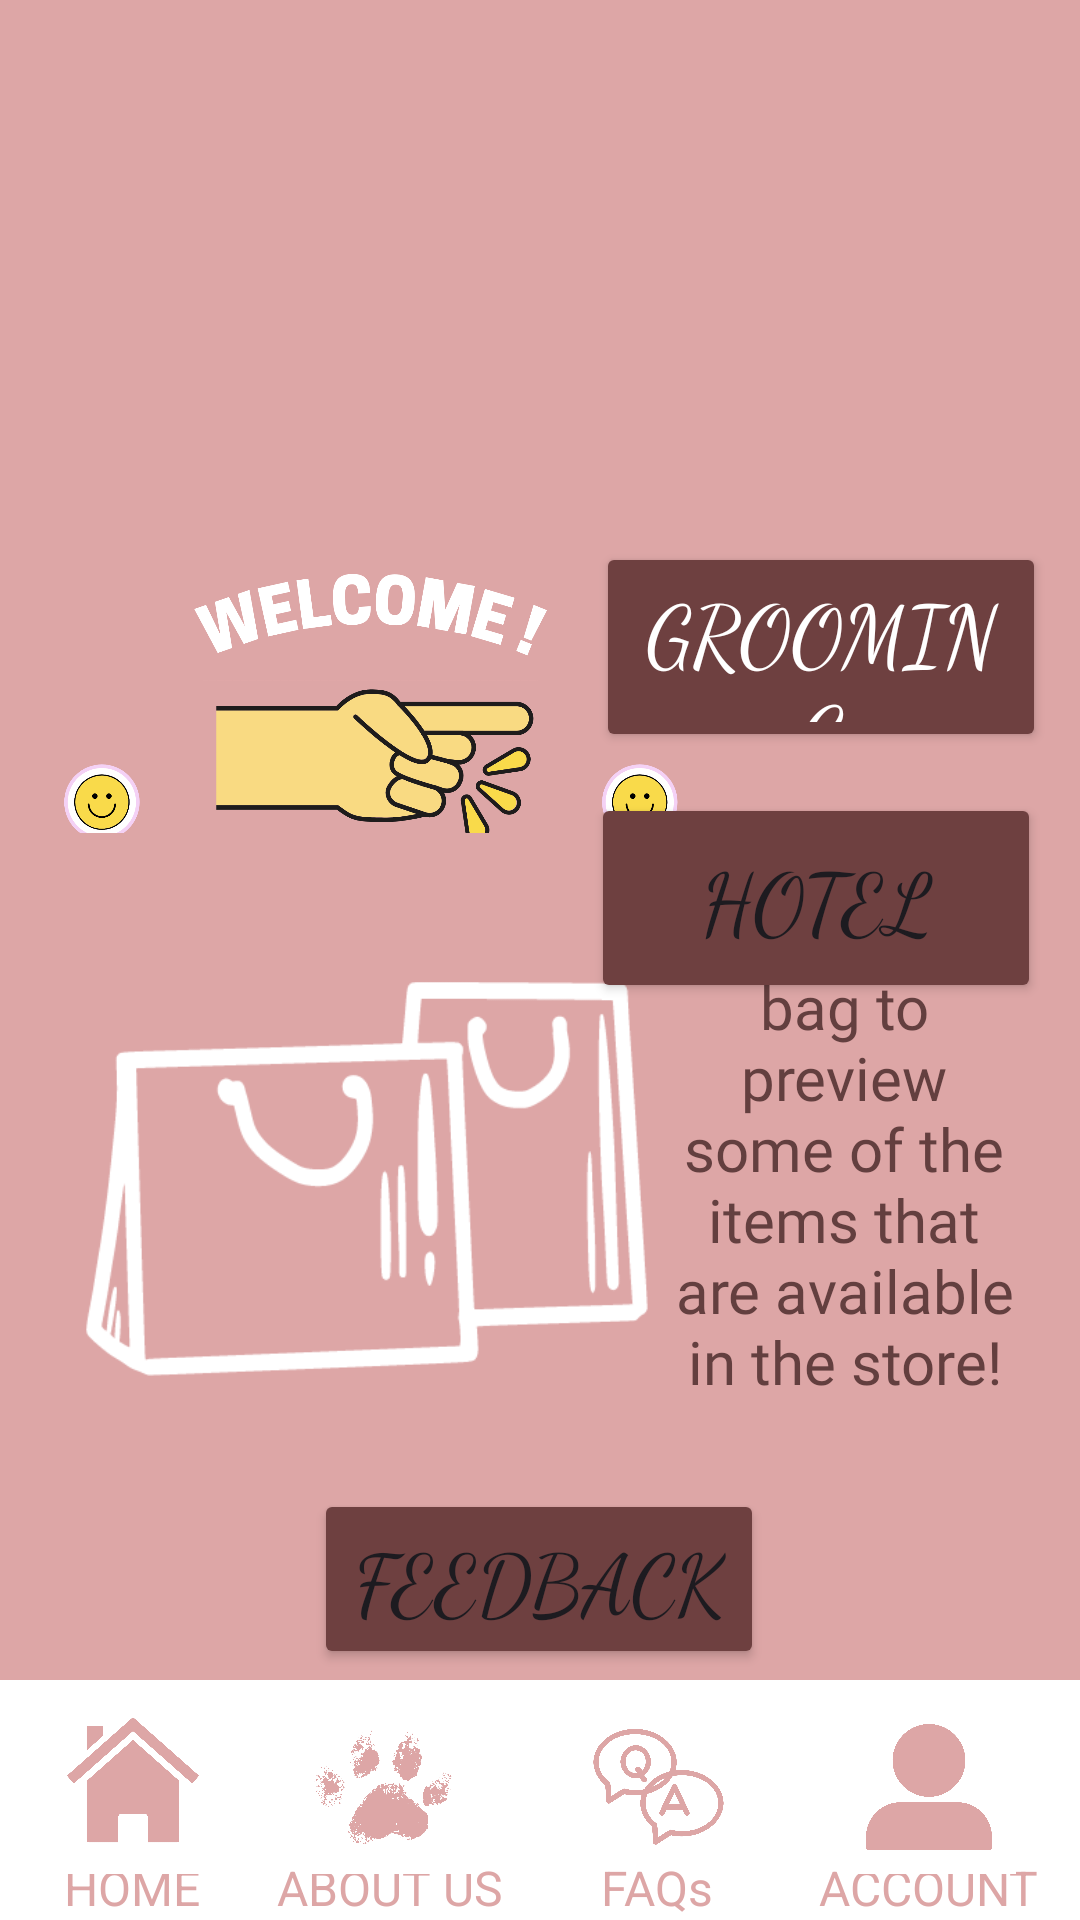

Where to tap for icons on this 1080 × 1920 app screen, as point (x, y):
paw: point (383, 1787)
